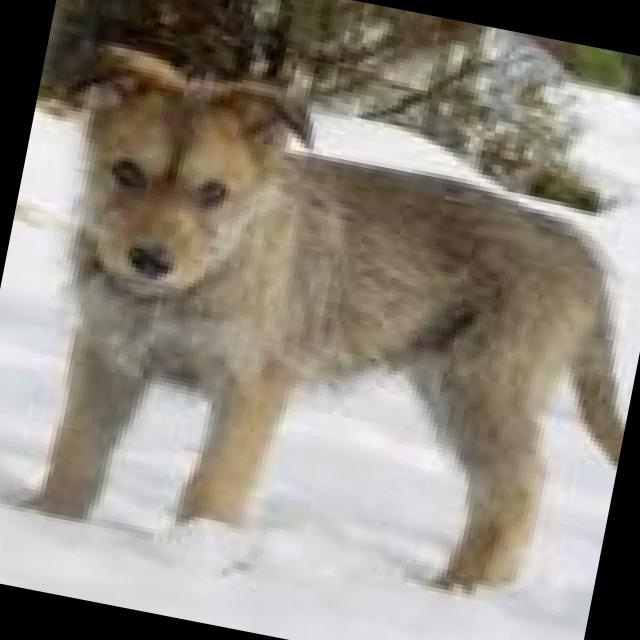Perro: (0, 24, 640, 618)
